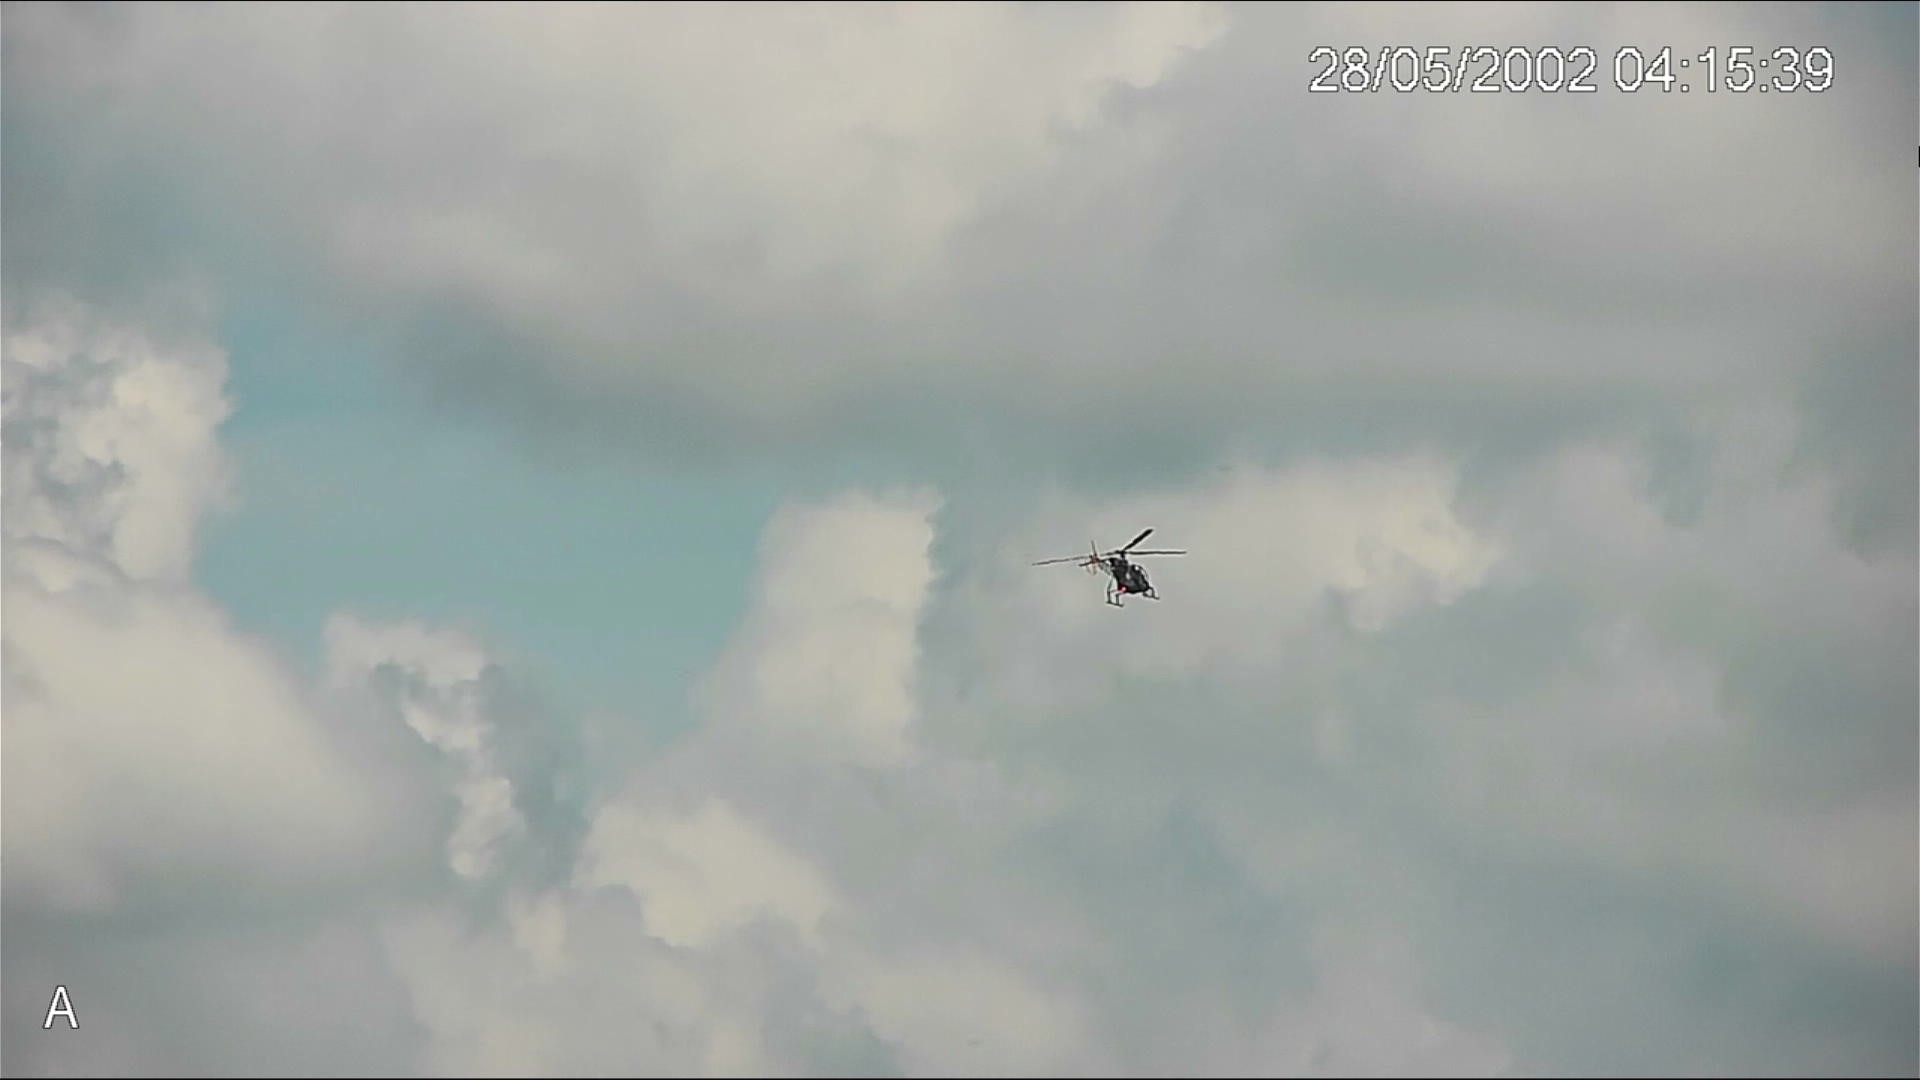SU_30: (1033, 530, 1184, 607)
